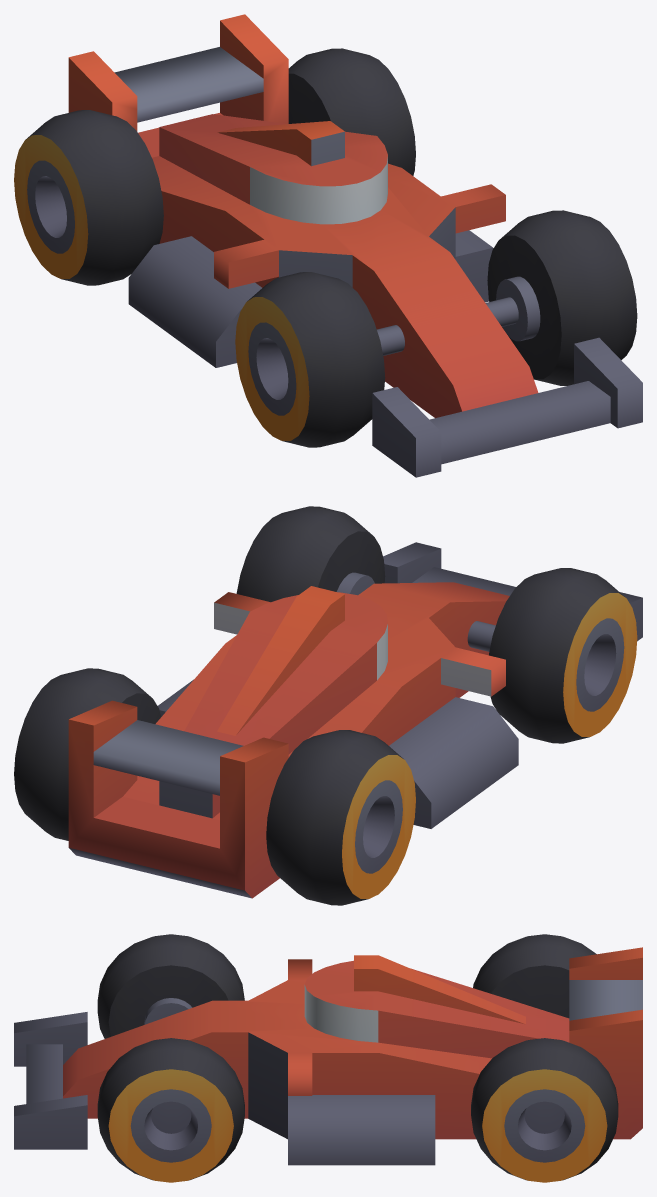
File: race.glb
3 views of the same model, one above another, from view 1: azimuth 30°, elevation 25°; view 2: azimuth 150°, elevation 25°; view 3: azimuth 270°, elevation 25° (orthographic). The views are drawn at different scales.
Parts seen in each view (by area): view 1: body, wheel-back-right, wheel-front-right, wheel-front-left, wheel-back-left; view 2: body, wheel-back-right, wheel-front-right, wheel-back-left, wheel-front-left; view 3: body, wheel-back-left, wheel-front-left, wheel-front-right, wheel-back-right.
Part boxes in pixels (box(x1,y1,x2,y2)): body: box(68, 14, 642, 477); wheel-back-right: box(14, 110, 163, 285); wheel-front-right: box(235, 272, 385, 447); wheel-front-left: box(487, 210, 637, 385); wheel-back-left: box(288, 48, 415, 175); body: box(68, 542, 642, 898); wheel-back-right: box(266, 730, 415, 905); wheel-front-right: box(489, 568, 637, 743); wheel-back-left: box(14, 668, 161, 840); wheel-front-left: box(236, 506, 385, 602); body: box(14, 947, 642, 1165); wheel-back-left: box(471, 1038, 618, 1182); wheel-front-left: box(97, 1038, 244, 1182); wheel-front-right: box(97, 934, 244, 1038); wheel-back-right: box(473, 934, 596, 1018).
Bounding box in the file's own units: 1.3 × 0.7325 × 2.56.
